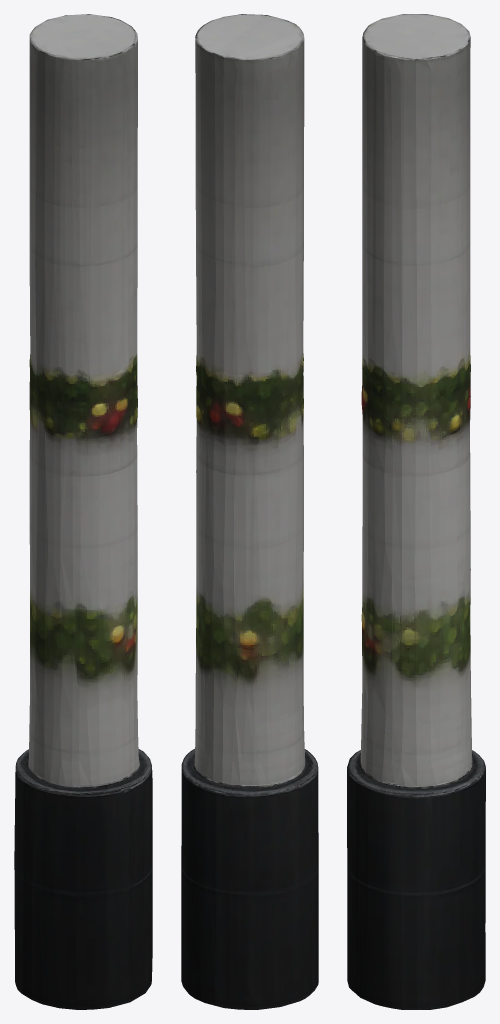
3 renders of one model, left to right at view 1: azimuth 30°, elevation 25°; view 2: azimuth 150°, elevation 25°; view 3: azimuth 270°, elevation 25°, orthographic.
Parts seen in each view (by area): view 1: geometry_0; view 2: geometry_0; view 3: geometry_0.
Part boxes in pixels (bbox=[...]): geometry_0: bbox=[14, 14, 152, 1009]; geometry_0: bbox=[181, 14, 318, 1009]; geometry_0: bbox=[347, 14, 485, 1009].
Bounding box in the file's own units: 0.1333 × 1 × 0.1332.
1 material, 1 textured.
